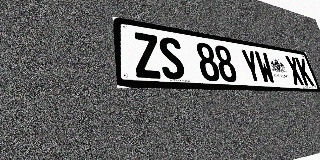8: (195, 41, 221, 81), (213, 44, 238, 82)
K: (295, 57, 314, 86)
S: (157, 36, 186, 80)
W: (254, 51, 276, 84)
X: (284, 55, 305, 85)
Y: (240, 48, 263, 83)
Z: (132, 32, 163, 79)
